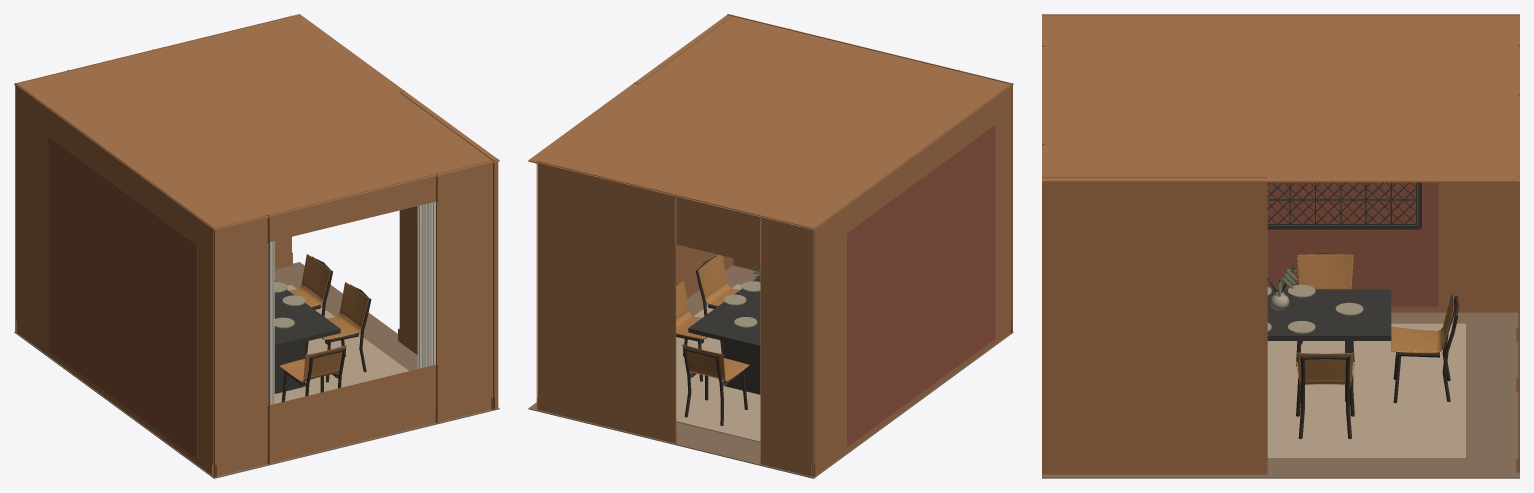
Rendered from dining-1.glb.
3 views of the same model, side by side, from view 1: azimuth 30°, elevation 25°; view 2: azimuth 150°, elevation 25°; view 3: azimuth 270°, elevation 25° (orthographic). The views are drawn at different scales.
Parts seen in each view (by area): view 1: DESIGN | dining removable wall finish, DESIGN | dining ceiling finish, DESIGN | Dining clay wall field, DESIGN | dining floor finish, DESIGN | Dining ground, DESIGN | Dining linen edge.001, DESIGN | Dining table top, DESIGN | Required Isadora dining chair 3, DESIGN | Required Isadora dining chair 5, DESIGN | Required Isadora dining chair 4, DESIGN | Dining linen edge, DESIGN | Dining table trestle; view 2: DESIGN | dining removable wall finish, DESIGN | dining ceiling finish, DESIGN | Dining clay wall field, DESIGN | Dining ground, DESIGN | dining floor finish, DESIGN | Dining table top, DESIGN | Required Isadora dining chair 6, DESIGN | Required Isadora dining chair 3, DESIGN | Dining table trestle.001, DESIGN | Required Isadora dining chair 4; view 3: DESIGN | dining ceiling finish, DESIGN | dining removable wall finish, DESIGN | Dining ground, DESIGN | Dining clay wall field, DESIGN | dining floor finish, DESIGN | Dining table top, DESIGN | Kumiko | Dining long craft screen, DESIGN | Required Isadora dining chair 6, DESIGN | Required Isadora dining chair 4, DESIGN | Required Isadora dining chair 2.
Boxes of the visible parts, <box> form: DESIGN | dining removable wall finish: <box>15,15,498,477</box>; DESIGN | dining ceiling finish: <box>14,14,499,230</box>; DESIGN | Dining clay wall field: <box>48,137,197,458</box>; DESIGN | dining floor finish: <box>14,262,499,478</box>; DESIGN | Dining ground: <box>274,285,408,403</box>; DESIGN | Dining linen edge.001: <box>417,201,435,368</box>; DESIGN | Dining table top: <box>274,281,340,348</box>; DESIGN | Required Isadora dining chair 3: <box>305,282,371,382</box>; DESIGN | Required Isadora dining chair 5: <box>279,345,346,401</box>; DESIGN | Required Isadora dining chair 4: <box>288,254,332,344</box>; DESIGN | Dining linen edge: <box>268,241,274,405</box>; DESIGN | Dining table trestle: <box>274,342,305,393</box>; DESIGN | dining removable wall finish: <box>536,14,1012,477</box>; DESIGN | dining ceiling finish: <box>528,14,1013,230</box>; DESIGN | Dining clay wall field: <box>847,125,995,446</box>; DESIGN | Dining ground: <box>676,284,760,442</box>; DESIGN | dining floor finish: <box>528,265,1013,478</box>; DESIGN | Dining table top: <box>688,277,760,349</box>; DESIGN | Required Isadora dining chair 6: <box>682,344,749,425</box>; DESIGN | Required Isadora dining chair 3: <box>696,255,739,343</box>; DESIGN | Dining table trestle.001: <box>723,341,760,394</box>; DESIGN | Required Isadora dining chair 4: <box>676,281,723,381</box>; DESIGN | dining ceiling finish: <box>1042,15,1519,182</box>; DESIGN | dining removable wall finish: <box>1042,14,1519,474</box>; DESIGN | Dining ground: <box>1267,323,1465,459</box>; DESIGN | Dining clay wall field: <box>1267,182,1438,306</box>; DESIGN | dining floor finish: <box>1042,312,1519,478</box>; DESIGN | Dining table top: <box>1267,289,1391,340</box>; DESIGN | Kumiko | Dining long craft screen: <box>1267,182,1421,229</box>; DESIGN | Required Isadora dining chair 6: <box>1391,292,1459,403</box>; DESIGN | Required Isadora dining chair 4: <box>1296,352,1354,439</box>; DESIGN | Required Isadora dining chair 2: <box>1296,253,1354,365</box>.
Bounding box in the file's own units: 3.28 × 2.74 × 3.98.
